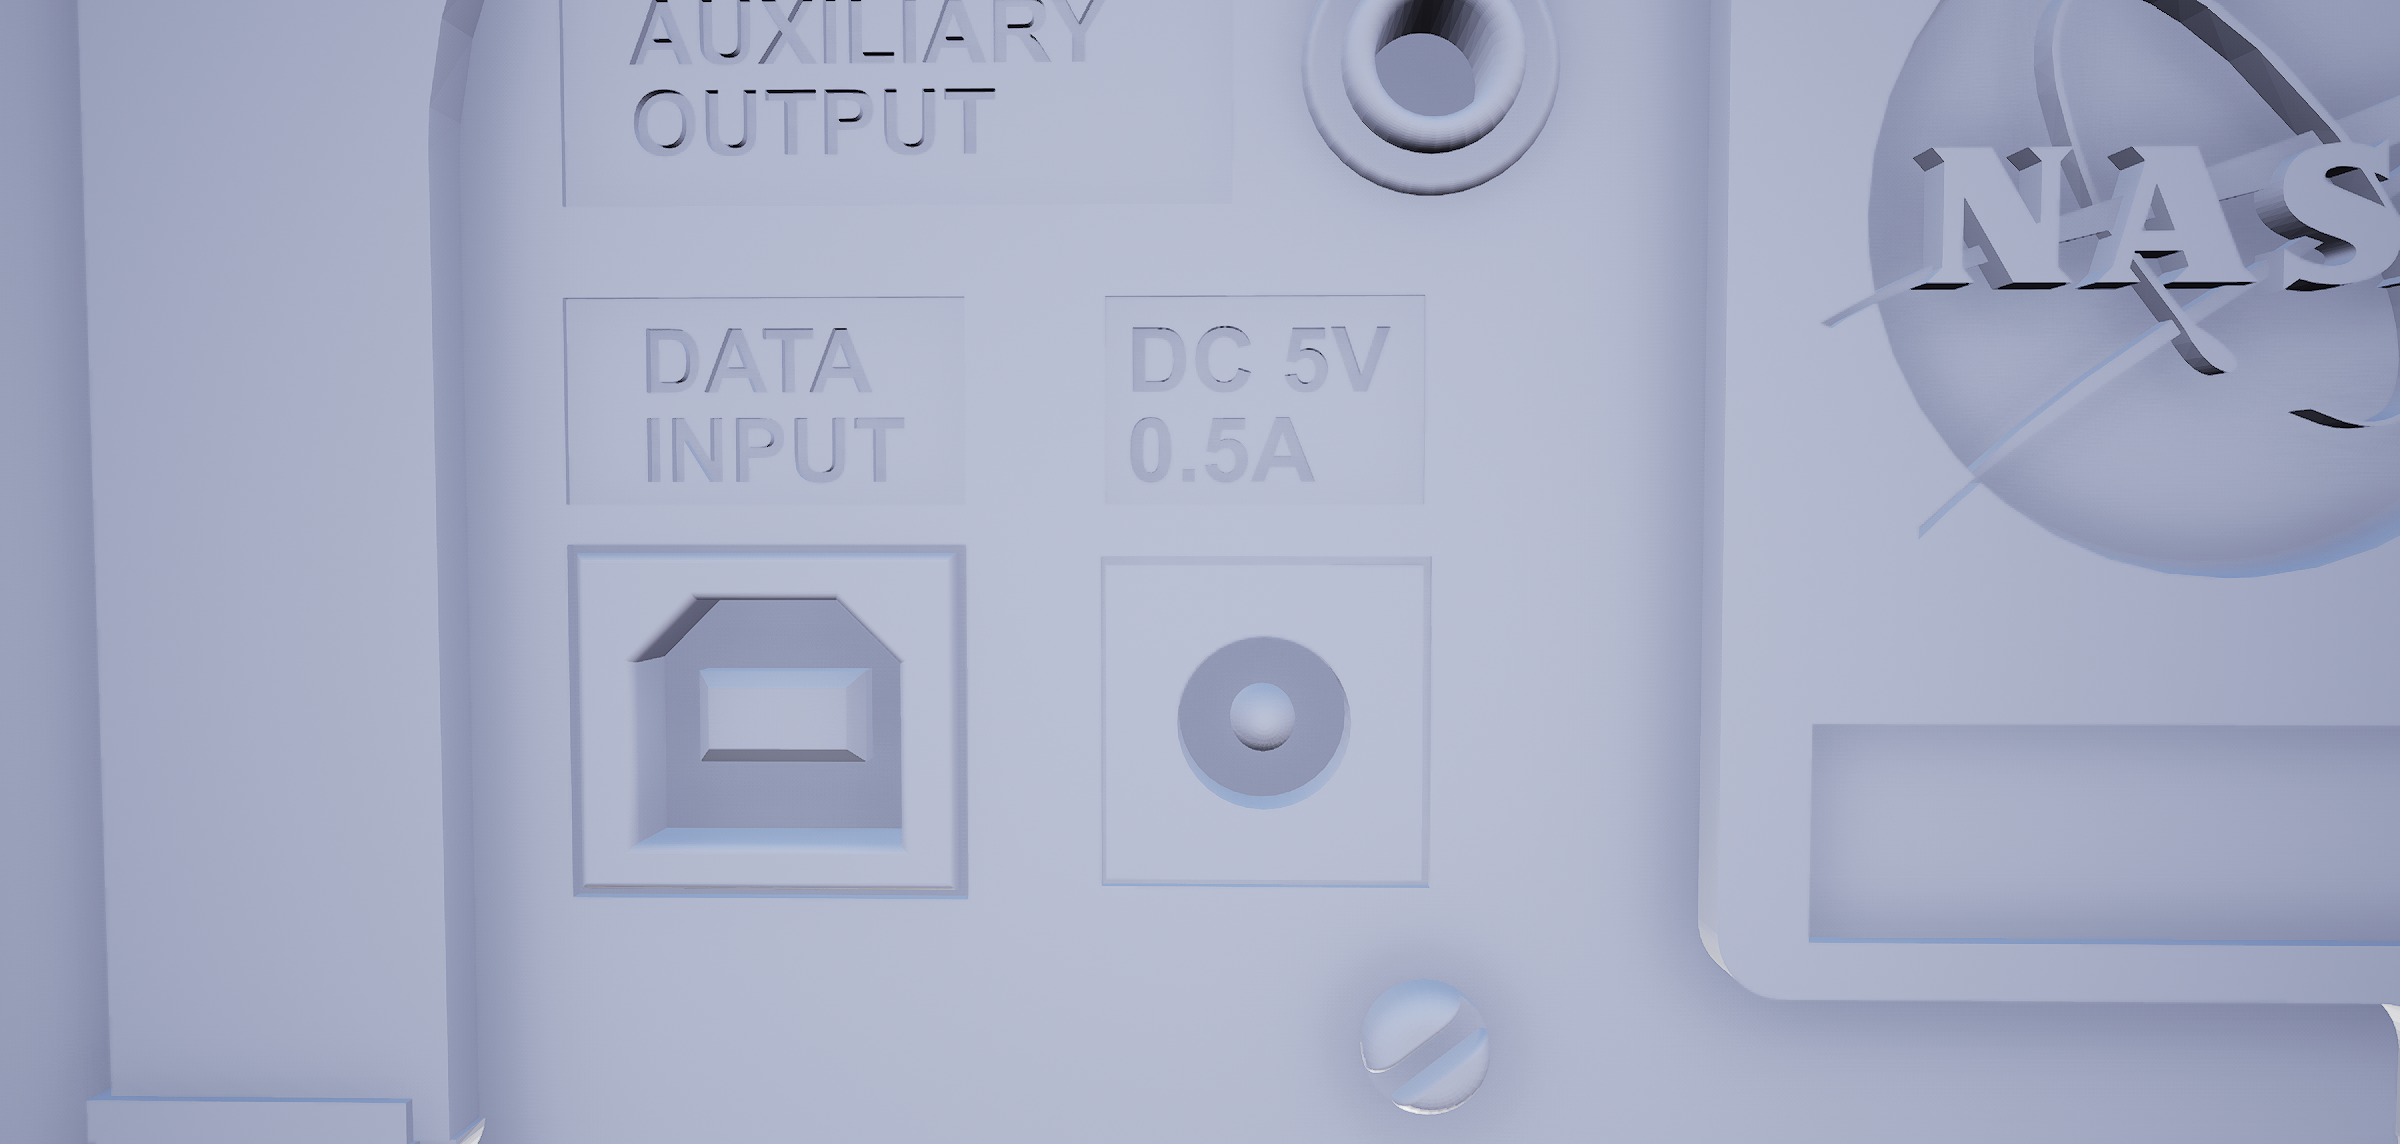aux: (1270, 2, 1596, 190)
dc: (1163, 620, 1365, 824)
usb: (621, 591, 914, 868)
